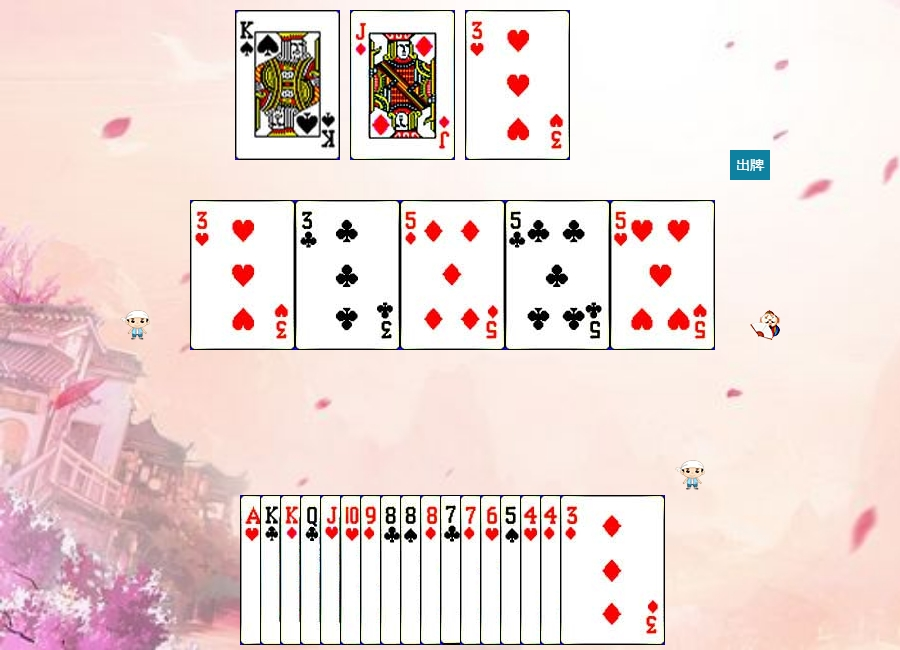10~3: (340, 495, 445, 645)
11~1: (350, 10, 455, 160)
11~3: (320, 495, 425, 645)
12~2: (300, 495, 405, 645)
13~1: (280, 495, 385, 645)
13~2: (260, 495, 365, 645)
13~4: (235, 10, 340, 160)
14~3: (240, 495, 345, 645)
3~1: (560, 495, 665, 645)
3~2: (295, 200, 400, 350)
3~3: (465, 10, 570, 160), (190, 200, 295, 350)
4~1: (540, 495, 645, 645)
4~3: (520, 495, 625, 645)
5~1: (400, 200, 505, 350)
5~2: (505, 200, 610, 350)
5~3: (610, 200, 715, 350)
5~4: (500, 495, 605, 645)
6~3: (480, 495, 585, 645)
7~1: (460, 495, 565, 645)
7~2: (440, 495, 545, 645)
8~1: (420, 495, 525, 645)
8~2: (380, 495, 485, 645)
8~4: (400, 495, 505, 645)
9~1: (360, 495, 465, 645)
